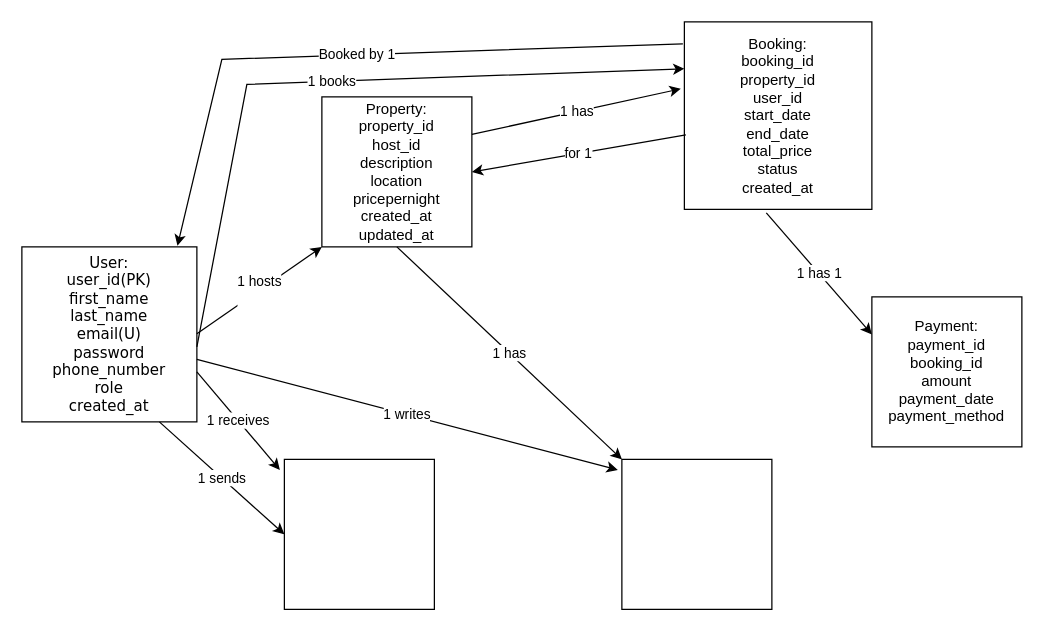
The diagram is 1044 pixels wide and 631 high, and some of its shapes have lost their labels. The centre of each missing label's shape, as x and y in pixels:
"Message: message_id sender_id receipent_id message_body sent_at" belongs at point (358, 533).
"Review review _id property_id user_id rating comment created_at" belongs at point (696, 533).
